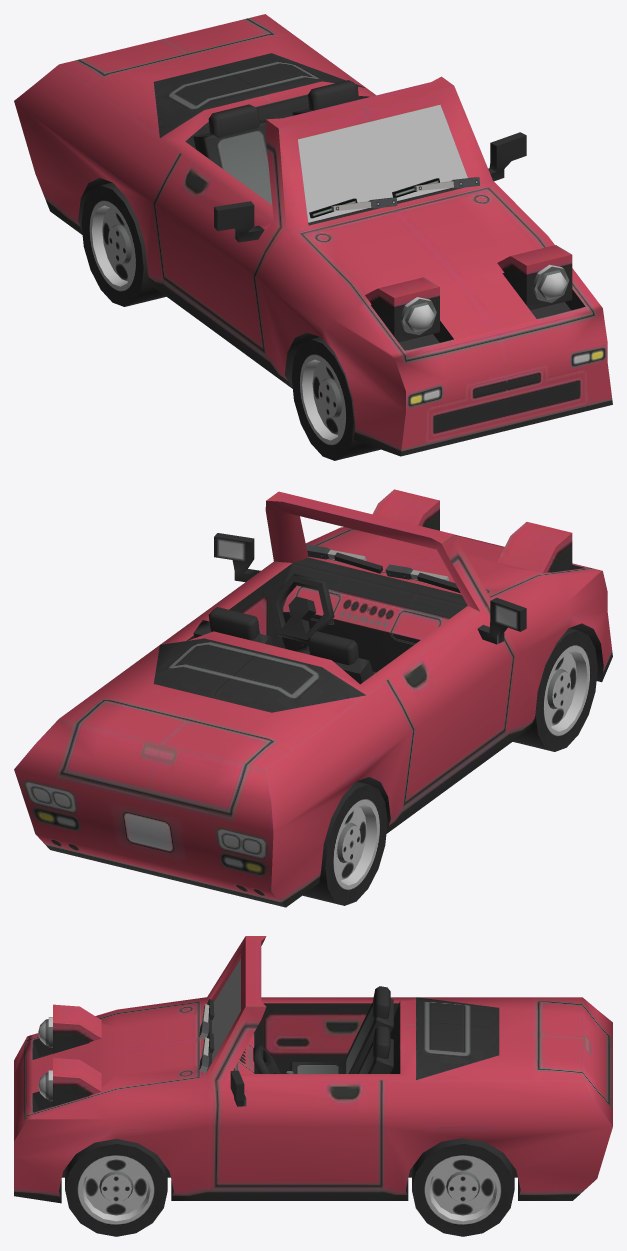
Rendered from 8ACz9InIO0c.glb.
The picture shows the model from 3 angles, top to bottom: view 1: azimuth 30°, elevation 25°; view 2: azimuth 150°, elevation 25°; view 3: azimuth 270°, elevation 25°; orthographic projection. The views are drawn at different scales.
Visible parts, largest first — view 1: Wheel_a2, Glass1; view 2: Wheel_a2; view 3: Wheel_a2, Glass1.
Boxes of the visible parts, x1=… form: Wheel_a2: x1=14, y1=14, x2=612, y2=460; Glass1: x1=298, y1=104, x2=467, y2=222; Wheel_a2: x1=14, y1=489, x2=612, y2=907; Wheel_a2: x1=14, y1=936, x2=612, y2=1236; Glass1: x1=212, y1=959, x2=240, y2=1061.
Size of the model in its own units: 1.23 by 1 by 2.51.
Materials: 2 (1 with a texture image).
